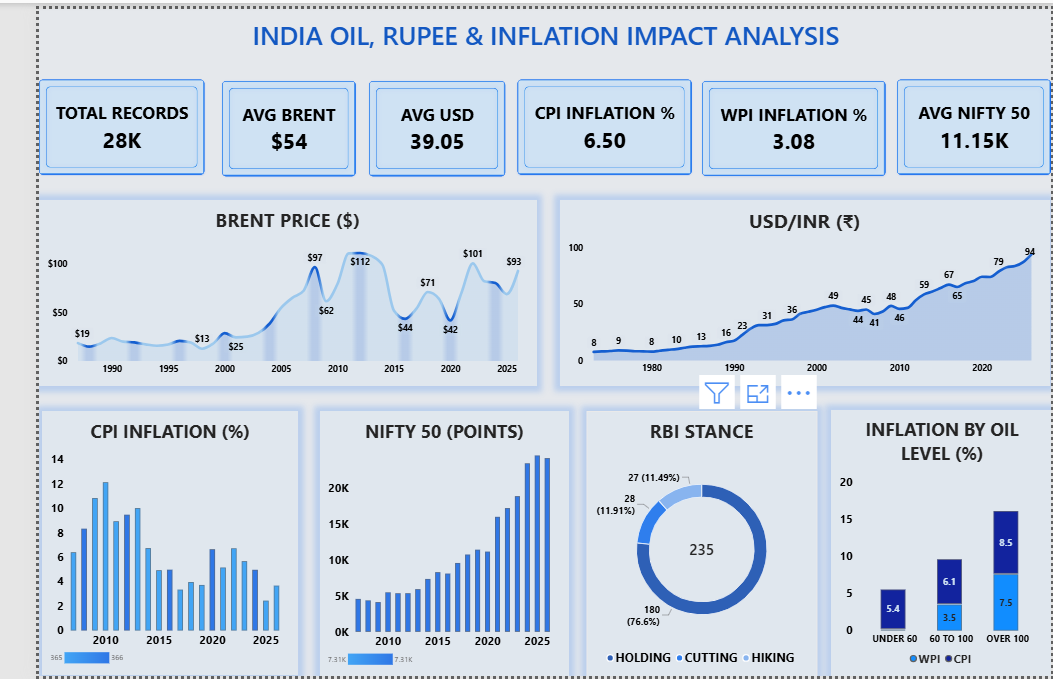

Layout of this report page (visuals, bound fields, positions):
{"tool":"powerbi","page":{"name":"Page 1","canvas":[1896,1250],"ordinal":0},"visuals":[{"type":"cardVisual","fields":{"Data":["Avg(crude_oil_data.brent_oil_usd)"]},"box":[343.9,134.1,250.5,178.9],"z":0},{"type":"cardVisual","fields":{"Data":["Avg(currency_data.usd_inr)"]},"box":[617.1,134.1,255.3,178.9],"z":1000},{"type":"cardVisual","fields":{"Data":["Avg(inflation_data.inflation_rate)"]},"box":[897.6,131.7,326.9,178.9],"z":2000},{"type":"cardVisual","fields":{"Data":["Avg(wholesale_price_data.wpi_inflation_rate)"]},"box":[1243.9,134.1,343.9,178],"z":3000},{"type":"cardVisual","fields":{"Data":["Avg(stock_market_data.nifty50)"]},"box":[1607.3,131.7,288.7,178.9],"z":4000},{"type":"cardVisual","fields":{"Data":["crude_oil_data.TOTAL RECORDS"]},"box":[0,132,310.2,178.9],"z":5000},{"type":"lineChart","title":"BRENT PRICE ($)","fields":{"Category":["crude_oil_data.date.Variation.Date Hierarchy.Year"],"Y":["Avg(crude_oil_data.brent_oil_usd)"]},"box":[0,356.1,932.7,349.8],"z":6000},{"type":"lineChart","title":"USD/INR (₹)","fields":{"Category":["currency_data.date.Variation.Date Hierarchy.Year"],"Y":["Avg(currency_data.usd_inr)"]},"box":[975.6,356.1,919.5,348.8],"z":7000},{"type":"columnChart","title":"CPI INFLATION (%)","fields":{"Category":["inflation_data.month.Variation.Date Hierarchy.Year"],"Y":["Avg(inflation_data.inflation_rate)"]},"box":[4.9,753.7,480.5,495.1],"z":8000},{"type":"columnChart","title":"NIFTY 50 (POINTS)","fields":{"Category":["stock_market_data.date.Variation.Date Hierarchy.Year"],"Y":["Avg(stock_market_data.nifty50)"]},"box":[524.4,753.7,468.3,497.6],"z":9000},{"type":"textbox","box":[2,-2,1894,108],"z":10000},{"type":"donutChart","title":"RBI STANCE","fields":{"Category":["RBI_STANCE.STANCE"],"Y":["Sum(RBI_STANCE.MONTHS)"]},"box":[1026.8,753.7,431.7,497.6],"z":11000},{"type":"columnChart","title":"INFLATION BY OIL LEVEL (%)","fields":{"Category":["OIL_LEVEL.OIL_LEVEL"],"Y":["Sum(OIL_LEVEL.WPI_INFLATION)","Sum(OIL_LEVEL.CPI_INFLATION)"]},"box":[1484.3,750.6,416.1,500.4],"z":11001}]}

Visuals, with their boxes in screenshot pixels (x1, y1, x2, y2), scaled from the page's 1896x1250 canvas onto the 1053x679 screenshot:
cardVisual - Avg(crude_oil_data.brent_oil_usd): 191 73 330 170
cardVisual - Avg(currency_data.usd_inr): 343 73 485 170
cardVisual - Avg(inflation_data.inflation_rate): 499 72 680 169
cardVisual - Avg(wholesale_price_data.wpi_inflation_rate): 691 73 882 170
cardVisual - Avg(stock_market_data.nifty50): 893 72 1052 169
cardVisual - crude_oil_data.TOTAL RECORDS: 0 72 172 169
"BRENT PRICE ($)" lineChart: 0 193 518 383
"USD/INR (₹)" lineChart: 542 193 1052 383
"CPI INFLATION (%)" columnChart: 3 409 270 678
"NIFTY 50 (POINTS)" columnChart: 291 409 551 678
textbox: 1 0 1052 58
"RBI STANCE" donutChart: 570 409 810 678
"INFLATION BY OIL LEVEL (%)" columnChart: 824 408 1052 678
